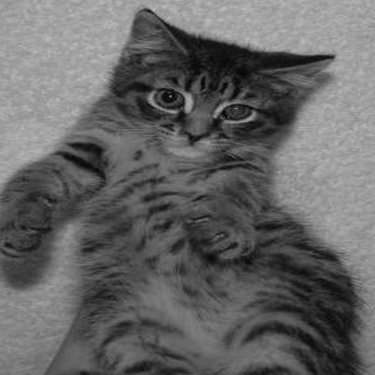cat: (1, 6, 361, 370)
